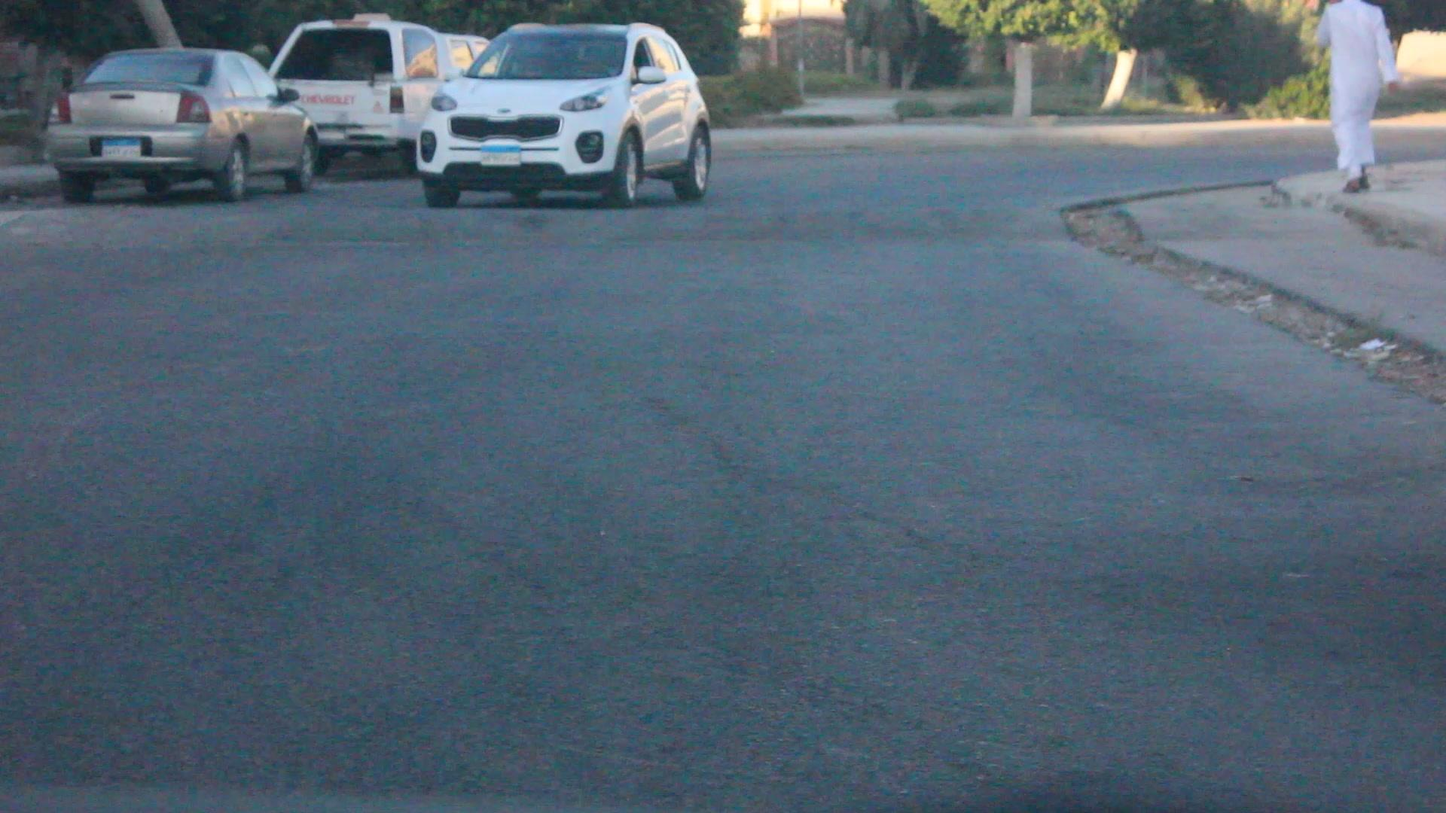Bump: (6, 194, 1088, 260)
